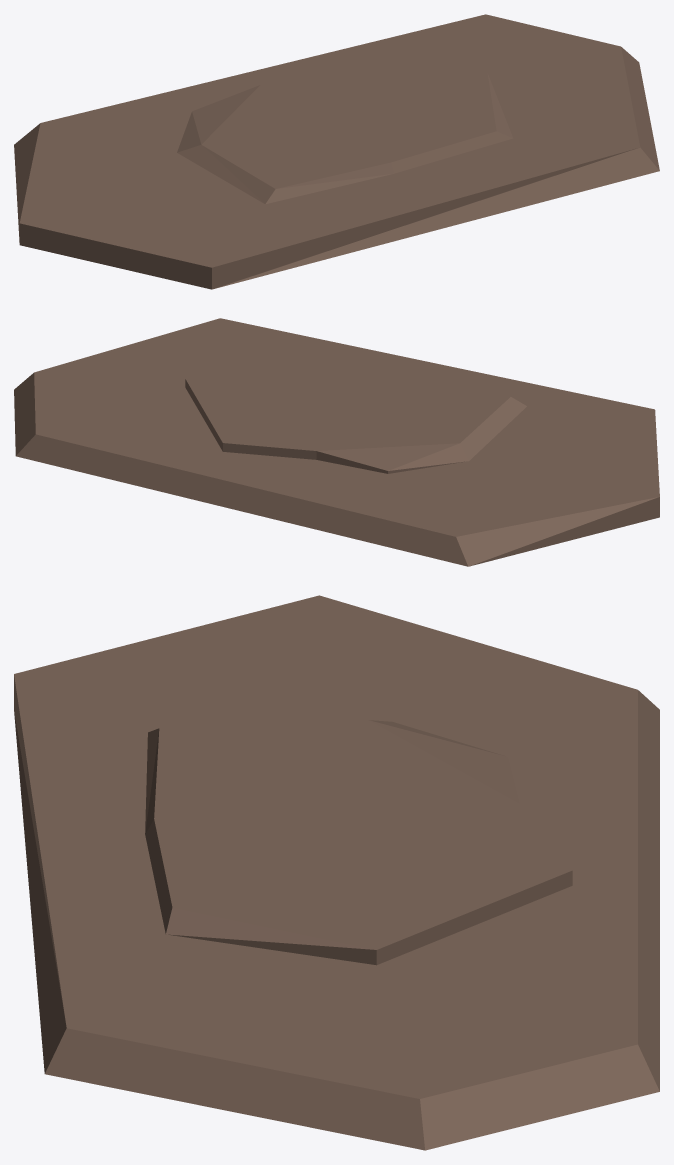
File: plano_4.fbx
3 renders of one model, top to bottom at view 1: azimuth 30°, elevation 25°; view 2: azimuth 150°, elevation 25°; view 3: azimuth 270°, elevation 25°, orthographic. The views are drawn at different scales.
Visible parts, largest first — view 1: plano_4; view 2: plano_4; view 3: plano_4.
Part boxes in pixels (x1,y1,x2,y2): plano_4: (14, 14, 659, 289); plano_4: (14, 318, 659, 566); plano_4: (14, 595, 659, 1150).
Bounding box in the file's own units: 206 × 12.53 × 108.
